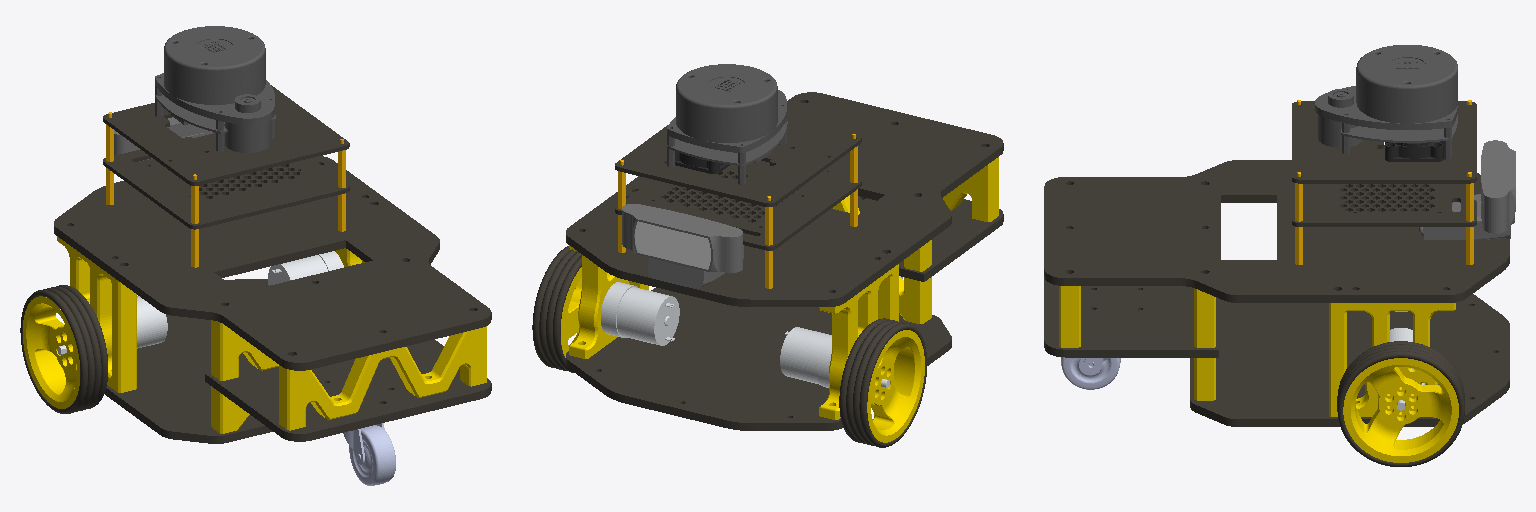
robot.urdf — pinna_bot:
<?xml version="1.0" encoding="utf-8"?>
<!-- =================================================================================== -->
<!-- |    This document was autogenerated by xacro from Pinna_bot.xacro                | -->
<!-- |    EDITING THIS FILE BY HAND IS NOT RECOMMENDED                                 | -->
<!-- =================================================================================== -->
<robot name="pinna_bot">
  <gazebo>
    <plugin filename="libgazebo_ros_control.so" name="gazebo_ros_control">
      <robotNamespace>/pinna_bot</robotNamespace>
      <robotSimType>gazebo_ros_control/DefaultRobotHWSim</robotSimType>
      <legacyModeNS>true</legacyModeNS>
    </plugin>
  </gazebo>
  <gazebo>
    <plugin filename="libgazebo_ros_diff_drive.so" name="differential_drive_controller">
      <legacyMode>false</legacyMode>
      <alwaysOn>true</alwaysOn>
      <updateRate>10</updateRate>
      <leftJoint>joint_wheel_left</leftJoint>
      <rightJoint>joint_wheel_right</rightJoint>
      <wheelSeparation>0.21</wheelSeparation>
      <wheelDiameter>0.115</wheelDiameter>
      <torque>0.018</torque>
      <commandTopic>cmd_vel</commandTopic>
      <odometryTopic>odom</odometryTopic>
      <odometryFrame>odom</odometryFrame>
      <robotBaseFrame>link_chasis</robotBaseFrame>
      <!-- base_footprint -->
    </plugin>
  </gazebo>
  <!--Physics constants-->
  <gazebo reference="link_wheel_right">
    <mu1>0.6</mu1>
    <mu2>0.6</mu2>
    <kp>500000.0</kp>
    <kd>10.0</kd>
    <minDepth>0.001</minDepth>
    <maxVel>0.1</maxVel>
    <fdir1>1 0 0</fdir1>
  </gazebo>
  <gazebo reference="link_wheel_left">
    <mu1>0.6</mu1>
    <mu2>0.6</mu2>
    <kp>500000.0</kp>
    <kd>10.0</kd>
    <minDepth>0.001</minDepth>
    <maxVel>0.1</maxVel>
    <fdir1>1 0 0</fdir1>
  </gazebo>
  <gazebo reference="link_caster_wheel">
    <mu1>0.3</mu1>
    <mu2>0.3</mu2>
    <kp>1000000.0</kp>
    <kd>100.0</kd>
    <minDepth>0.001</minDepth>
    <maxVel>1.0</maxVel>
  </gazebo>
  <!--Plugin IMU-->
  <gazebo reference="imu_link">
    <gravity>true</gravity>
    <sensor name="imu_sensor" type="imu">
      <always_on>true</always_on>
      <update_rate>100</update_rate>
      <visualize>true</visualize>
      <topic>imu_topic</topic>
      <plugin filename="libgazebo_ros_imu_sensor.so" name="imu_plugin">
        <topicName>pinna_bot/imu</topicName>
        <bodyName>imu_link</bodyName>
        <updateRateHZ>10.0</updateRateHZ>
        <gaussianNoise>0.0</gaussianNoise>
        <xyzOffset>0 0 0</xyzOffset>
        <rpyOffset>0 0 0</rpyOffset>
        <frameName>imu_link</frameName>
        <initialOrientationAsReference>true</initialOrientationAsReference>
        <!--false-->
      </plugin>
      <pose>0 0 0 0 0 0</pose>
    </sensor>
  </gazebo>
  <!--Plugin Camara-->
  <gazebo reference="camera_link">
    <sensor name="camara" type="camera">
      <update_rate>20.0</update_rate>
      <camera name="head">
        <horizontal_fov>1.3962634</horizontal_fov>
        <image>
          <width>1920</width>
          <height>1080</height>
          <format>R8G8B8</format>
        </image>
        <clip>
          <near>0.02</near>
          <far>300</far>
        </clip>
      </camera>
      <plugin filename="libgazebo_ros_camera.so" name="camera_controller">
        <alwaysOn>true</alwaysOn>
        <updateRate>0.0</updateRate>
        <cameraName>pinna_bot/camara</cameraName>
        <imageTopicName>image_raw</imageTopicName>
        <cameraInfoTopicName>camera_info</cameraInfoTopicName>
        <frameName>camera_link</frameName>
        <hackBaseline>0.07</hackBaseline>
        <distortionK1>0.0</distortionK1>
        <distortionK2>0.0</distortionK2>
        <distortionK3>0.0</distortionK3>
        <distortionT1>0.0</distortionT1>
        <distortionT2>0.0</distortionT2>
      </plugin>
    </sensor>
  </gazebo>
  <!--Plugin Lidar-->
  <gazebo reference="lidar_link">
    <sensor name="head_hokuyo_sensor" type="ray">
      <pose>0 0 0 0 0 0</pose>
      <visualize>false</visualize>
      <update_rate>20</update_rate>
      <ray>
        <scan>
          <horizontal>
            <samples>720</samples>
            <resolution>1</resolution>
            <min_angle>-3.14</min_angle>
            <max_angle>3.14</max_angle>
          </horizontal>
        </scan>
        <range>
          <min>0.10</min>
          <max>12.0</max>
          <resolution>0.01</resolution>
        </range>
        <noise>
          <type>gaussian</type>
          <mean>0.0</mean>
          <stddev>0.01</stddev>
        </noise>
      </ray>
      <plugin filename="libgazebo_ros_laser.so" name="gazebo_ros_head_hokuyo_controller">
        <topicName>pinna_bot/laser/scan</topicName>
        <frameName>lidar_link</frameName>
      </plugin>
    </sensor>
  </gazebo>
  <!--FRONT-->
  <gazebo reference="sonar_front_link">
    <sensor name="sonar" type="ray">
      <update_rate>10</update_rate>
      <visualize>false</visualize>
      <ray>
        <scan>
          <horizontal>
            <samples>5</samples>
            <resolution>1</resolution>
            <min_angle>-0.1</min_angle>
            <max_angle>0.1</max_angle>
          </horizontal>
          <vertical>
            <samples>5</samples>
            <resolution>1</resolution>
            <min_angle>-0.1</min_angle>
            <max_angle>0.1</max_angle>
          </vertical>
        </scan>
        <range>
          <min>0.03</min>
          <max>4.0</max>
          <resolution>0.01</resolution>
        </range>
      </ray>
      <plugin filename="libgazebo_ros_range.so" name="gazebo_ros_range">
        <gaussianNoise>0.005</gaussianNoise>
        <alwaysOn>true</alwaysOn>
        <updateRate>10</updateRate>
        <topicName>pinna_bot/sonar/1</topicName>
        <frameName>sonar_front_link</frameName>
        <fov>0.5</fov>
        <radiation>ultrasound</radiation>
      </plugin>
    </sensor>
  </gazebo>
  <!--LEFT-->
  <gazebo reference="sonar_left_link">
    <sensor name="sonar" type="ray">
      <update_rate>10</update_rate>
      <visualize>false</visualize>
      <ray>
        <scan>
          <horizontal>
            <samples>5</samples>
            <resolution>1</resolution>
            <min_angle>-0.1</min_angle>
            <max_angle>0.1</max_angle>
          </horizontal>
          <vertical>
            <samples>5</samples>
            <resolution>1</resolution>
            <min_angle>-0.1</min_angle>
            <max_angle>0.1</max_angle>
          </vertical>
        </scan>
        <range>
          <min>0.055</min>
          <max>4.0</max>
          <resolution>0.01</resolution>
        </range>
      </ray>
      <plugin filename="libgazebo_ros_range.so" name="gazebo_ros_range">
        <gaussianNoise>0.005</gaussianNoise>
        <alwaysOn>true</alwaysOn>
        <updateRate>10</updateRate>
        <topicName>pinna_bot/sonar/2</topicName>
        <frameName>sonar_left_link</frameName>
        <fov>0.5</fov>
        <radiation>ultrasound</radiation>
      </plugin>
    </sensor>
  </gazebo>
  <!--RIGHT-->
  <gazebo reference="sonar_right_link">
    <sensor name="sonar" type="ray">
      <update_rate>10</update_rate>
      <visualize>false</visualize>
      <ray>
        <scan>
          <horizontal>
            <samples>5</samples>
            <resolution>1</resolution>
            <min_angle>-0.1</min_angle>
            <max_angle>0.1</max_angle>
          </horizontal>
          <vertical>
            <samples>5</samples>
            <resolution>1</resolution>
            <min_angle>-0.1</min_angle>
            <max_angle>0.1</max_angle>
          </vertical>
        </scan>
        <range>
          <min>0.055</min>
          <max>4.0</max>
          <resolution>0.01</resolution>
        </range>
      </ray>
      <plugin filename="libgazebo_ros_range.so" name="gazebo_ros_range">
        <gaussianNoise>0.005</gaussianNoise>
        <alwaysOn>true</alwaysOn>
        <updateRate>10</updateRate>
        <topicName>pinna_bot/sonar/3</topicName>
        <frameName>sonar_right_link</frameName>
        <fov>0.5</fov>
        <radiation>ultrasound</radiation>
      </plugin>
    </sensor>
  </gazebo>
  <material name="black">
    <color rgba="0.0 0.0 0.0 1.0"/>
  </material>
  <material name="blue">
    <color rgba="0.0 0.0 0.8 1.0"/>
  </material>
  <material name="green">
    <color rgba="0.0 0.8 0.0 1.0"/>
  </material>
  <material name="grey">
    <color rgba="0.2 0.2 0.2 1.0"/>
  </material>
  <material name="orange">
    <color rgba="1.0 0.423529411765 0.0392156862745 1.0"/>
  </material>
  <material name="brown">
    <color rgba="0.870588235294 0.811764705882 0.764705882353 1.0"/>
  </material>
  <material name="red">
    <color rgba="0.8 0.0 0.0 1.0"/>
  </material>
  <material name="white">
    <color rgba="1.0 1.0 1.0 1.0"/>
  </material>
  <!--Links o partes Chasis-->
  <link name="link_chassis">
    <!-- pose and inertial -->
    <pose>0 0 0.1 0 0 0</pose>
    <inertial>
      <mass value="3.0"/>
      <origin rpy="0 0 0" xyz="0 0 0"/>
      <inertia ixx="0.0655" ixy="0" ixz="0" iyy="0.0517" iyz="0" izz="0.14"/>
    </inertial>
    <!--Chasis -->
    <collision name="collision_chassis">
      <origin rpy="0 0 0" xyz="0 0 0.085"/>
      <geometry>
        <box size="0.22 0.320 0.173"/>
      </geometry>
    </collision>
    <visual>
      <origin rpy="0 0 0" xyz="0 0.160 0"/>
      <geometry>
        <mesh filename="package://pinnabot_description/meshes/Chasis_pinna_bot.dae"/>
      </geometry>
    </visual>
  </link>
  <!--Links caster-->
  <link name="link_caster_wheel">
    <inertial>
      <mass value="0.15"/>
      <inertia ixx="0.001107" ixy="0" ixz="0" iyy="0.001107" iyz="0" izz="0.002152"/>
    </inertial>
    <collision>
      <origin rpy="0 1.57 0" xyz="0 0.00 0.0"/>
      <geometry>
        <cylinder length="0.019" radius="0.020"/>
      </geometry>
    </collision>
    <visual>
      <origin rpy="0 0 0" xyz="0 0.021 0.035"/>
      <geometry>
        <mesh filename="package://pinnabot_description/meshes/caster_wheel.dae"/>
      </geometry>
    </visual>
  </link>
  <link name="link_caster_axis_support">
    <inertial>
      <mass value="0.08"/>
      <inertia ixx="1e-6" ixy="0" ixz="0" iyy="1e-6" iyz="0" izz="1e-6"/>
    </inertial>
    <collision>
      <origin rpy="0 0 0" xyz="0 -0.003 -0.02"/>
      <geometry>
        <box size="0.025 0.040 0.035"/>
      </geometry>
    </collision>
    <visual>
      <origin rpy="0 0 0" xyz="0 0 0"/>
      <geometry>
        <mesh filename="package://pinnabot_description/meshes/caster_axis_support.dae"/>
      </geometry>
    </visual>
  </link>
  <link name="link_caster_base">
    <inertial>
      <mass value="0.05"/>
      <inertia ixx="1e-6" ixy="0" ixz="0" iyy="1e-6" iyz="0" izz="1e-6"/>
    </inertial>
    <collision>
      <origin rpy="0 0 0" xyz="0 0 -0.0015"/>
      <geometry>
        <box size="0.045 0.045 0.003"/>
      </geometry>
    </collision>
    <visual>
      <origin rpy="0 0 0" xyz="0 0 0"/>
      <geometry>
        <mesh filename="package://pinnabot_description/meshes/caster_base.dae"/>
      </geometry>
    </visual>
  </link>
  <!--Links Wheels-->
  <link name="link_wheel_right">
    <inertial>
      <mass value="1.0"/>
      <origin rpy="0 1.5707 0" xyz="0 0 0"/>
      <inertia ixx="0.01107" ixy="0" ixz="0" iyy="0.01107" iyz="0" izz="0.02152"/>
    </inertial>
    <collision name="link_wheel_right_collision">
      <origin rpy="0 1.5707 0" xyz="0 0 0"/>
      <geometry>
        <cylinder length="0.022" radius="0.043"/>
      </geometry>
    </collision>
    <visual name="link_wheel_right_visual">
      <origin rpy="0 1.5707 0" xyz="0 0 0"/>
      <geometry>
        <mesh filename="package://pinnabot_description/meshes/Wheel_pinna_bot.dae"/>
      </geometry>
    </visual>
  </link>
  <link name="link_wheel_left">
    <inertial>
      <mass value="1.0"/>
      <origin rpy="0 -1.5707 0" xyz="0 0 0"/>
      <inertia ixx="0.01107" ixy="0" ixz="0" iyy="0.01107" iyz="0" izz="0.02152"/>
    </inertial>
    <collision name="link_wheel_left_collision">
      <origin rpy="0 -1.5707 0" xyz="0 0 0"/>
      <geometry>
        <cylinder length="0.022" radius="0.043"/>
      </geometry>
    </collision>
    <visual name="link_wheel_left_visual">
      <origin rpy="0 -1.5707 0" xyz="0 0 0"/>
      <geometry>
        <mesh filename="package://pinnabot_description/meshes/Wheel_pinna_bot.dae"/>
      </geometry>
    </visual>
  </link>
  <!-- imu -->
  <link name="imu_link">
    </link>
  <!-- Camera -->
  <link name="camera_link">
    <collision>
      <origin rpy="1.57 0 -1.57" xyz="0 0 0"/>
      <geometry>
        <box size="0.090 0.040  0.020"/>
      </geometry>
    </collision>
    <inertial>
      <mass value="0.160"/>
      <origin rpy="0 0 0" xyz="0 0 0"/>
      <inertia ixx="1e-6" ixy="0" ixz="0" iyy="1e-6" iyz="0" izz="1e-6"/>
    </inertial>
    <visual>
      <origin rpy="1.57 0 -1.57" xyz="0.1025 0.005 0"/>
      <geometry>
        <mesh filename="package://pinnabot_description/meshes/Camera_Logitech_C920Arm.dae"/>
      </geometry>
    </visual>
  </link>
  <!-- Module-Jetson -->
  <link name="module_jetson_link">
    <inertial>
      <mass value="0.4"/>
      <inertia ixx="0.0" ixy="0.0" ixz="0.0" iyy="0.0" iyz="0.0" izz="0.0"/>
    </inertial>
    <visual>
      <origin rpy="0.0 0.0 0.0" xyz="0.0 0.0 0.0"/>
      <geometry>
        <mesh filename="package://pinnabot_description/meshes/module_jetson.dae"/>
      </geometry>
    </visual>
  </link>
  <!-- Lidar -->
  <link name="lidar_link">
    <collision>
      <origin rpy="0 0 0" xyz="0 0 0"/>
      <geometry>
        <cylinder length="0.07" radius="0.05"/>
      </geometry>
    </collision>
    <visual>
      <origin rpy="0 0 -3.14" xyz="0 0 0"/>
      <geometry>
        <mesh filename="package://pinnabot_description/meshes/RPLidar.dae"/>
      </geometry>
    </visual>
    <inertial>
      <mass value="0.170"/>
      <origin rpy="0 0 0" xyz="0 0 0"/>
      <inertia ixx="1e-6" ixy="0" ixz="0" iyy="1e-6" iyz="0" izz="1e-6"/>
    </inertial>
  </link>
  <!-- Sonars o Ultrasonidos -->
  <link name="sonar_front_link">
    <inertial>
      <mass value="0.001"/>
      <origin rpy="0 0 0" xyz="0 0 0"/>
      <inertia ixx="0.000000017" ixy="0" ixz="0" iyy="0.000000017" iyz="0" izz="0.000000017"/>
    </inertial>
    <visual>
      <origin rpy="0 0 -1.5707" xyz="0 0 0"/>
      <geometry>
        <mesh filename="package://pinnabot_description/meshes/Ultrasonido.dae"/>
      </geometry>
    </visual>
  </link>
  <link name="sonar_left_link">
    <inertial>
      <mass value="0.001"/>
      <origin rpy="0 0 0" xyz="0 0 0"/>
      <inertia ixx="0.000000017" ixy="0" ixz="0" iyy="0.000000017" iyz="0" izz="0.000000017"/>
    </inertial>
    <visual>
      <origin rpy="0 0 -1.5707" xyz="0 0 0"/>
      <geometry>
        <mesh filename="package://pinnabot_description/meshes/Ultrasonido.dae"/>
      </geometry>
    </visual>
  </link>
  <link name="sonar_right_link">
    <inertial>
      <mass value="0.001"/>
      <origin rpy="0 0 0" xyz="0 0 0"/>
      <inertia ixx="0.000000017" ixy="0" ixz="0" iyy="0.000000017" iyz="0" izz="0.000000017"/>
    </inertial>
    <visual>
      <origin rpy="0 0 -1.5707" xyz="0 0 0"/>
      <geometry>
        <mesh filename="package://pinnabot_description/meshes/Ultrasonido.dae"/>
      </geometry>
    </visual>
  </link>
  <!--Joints o uniones-->
  <joint name="joint_caster" type="fixed">
    <origin rpy="0 0 0" xyz="0 -0.1105 0.03"/>
    <parent link="link_chassis"/>
    <child link="link_caster_base"/>
  </joint>
  <joint name="joint_caster1" type="continuous">
    <origin rpy="0 0 0" xyz="0 -0.018 -0.03"/>
    <parent link="link_caster_axis_support"/>
    <child link="link_caster_wheel"/>
    <axis rpy="0 0 0" xyz="1 0 0"/>
    <limit effort="10000" velocity="1000"/>
    <joint_properties damping="0.80" friction="1.0"/>
  </joint>
  <joint name="joint_caster2" type="continuous">
    <origin rpy="0 0 0" xyz="0 0 0"/>
    <parent link="link_caster_base"/>
    <child link="link_caster_axis_support"/>
    <axis rpy="0 0 0" xyz="0 0 1"/>
    <limit effort="10000" velocity="1000"/>
    <joint_properties damping="0.80" friction="1.0"/>
  </joint>
  <joint name="joint_wheel_right" type="continuous">
    <origin rpy="0 0 0" xyz="0.122 0.085 0.023"/>
    <child link="link_wheel_right"/>
    <parent link="link_chassis"/>
    <axis rpy="0 0 0" xyz="-1 0 0"/>
    <limit effort="10000" velocity="1000"/>
    <joint_properties damping="0.80" friction="1.0"/>
  </joint>
  <joint name="joint_wheel_left" type="continuous">
    <origin rpy="0 0 0" xyz="-0.122 0.085 0.023"/>
    <child link="link_wheel_left"/>
    <parent link="link_chassis"/>
    <axis rpy="0 0 0" xyz="-1 0 0"/>
    <limit effort="10000" velocity="1000"/>
    <joint_properties damping="0.80" friction="1.0"/>
  </joint>
  <joint name="joint_imu" type="fixed">
    <origin rpy="0 0 0" xyz="0 0.085 0.02"/>
    <child link="imu_link"/>
    <parent link="link_chassis"/>
  </joint>
  <joint name="joint_camera" type="fixed">
    <origin rpy="0 0 1.57" xyz="0 0.155 0.130"/>
    <parent link="link_chassis"/>
    <child link="camera_link"/>
  </joint>
  <joint name="joint_module_jetson" type="fixed">
    <origin rpy="0.0 0.0 0.0" xyz="0.0 0.0735 0.13"/>
    <parent link="link_chassis"/>
    <child link="module_jetson_link"/>
  </joint>
  <joint name="joint_lidar" type="fixed">
    <origin rpy="0 0 1.5707" xyz="0 0.075 0.190"/>
    <parent link="link_chassis"/>
    <child link="lidar_link"/>
  </joint>
  <joint name="joint_sonar_front" type="fixed">
    <origin rpy="0 0 1.5707" xyz="0 0.158 0.051"/>
    <parent link="link_chassis"/>
    <child link="sonar_front_link"/>
  </joint>
  <joint name="joint_sonar_left" type="fixed">
    <origin rpy="0 0 2.1" xyz="-0.08 0.1405 0.051"/>
    <parent link="link_chassis"/>
    <child link="sonar_left_link"/>
  </joint>
  <joint name="joint_sonar_right" type="fixed">
    <origin rpy="0 0 1.04" xyz="0.08 0.1405 0.051"/>
    <parent link="link_chassis"/>
    <child link="sonar_right_link"/>
  </joint>
  <!--Transmission -->
  <transmission name="trans1">
    <type>transmission_interface/SimpleTransmission</type>
    <joint name="joint_wheel_right">
      <hardwareInterface>hardware_interface/VelocityJointInterface</hardwareInterface>
    </joint>
    <actuator name="motor1">
      <!--<hardwareInterface>hardware_interface/VelocityJointInterface</hardwareInterface>-->
      <mechanicalReduction>1</mechanicalReduction>
    </actuator>
  </transmission>
  <transmission name="trans2">
    <type>transmission_interface/SimpleTransmission</type>
    <joint name="joint_wheel_left">
      <hardwareInterface>hardware_interface/VelocityJointInterface</hardwareInterface>
    </joint>
    <actuator name="motor2">
      <!--<hardwareInterface>hardware_interface/VelocityJointInterface</hardwareInterface>-->
      <mechanicalReduction>1</mechanicalReduction>
    </actuator>
  </transmission>
</robot>

--- Render facts (derived) ---
3 views of the same robot in one strip: view 1: azimuth 30°, elevation 25°; view 2: azimuth 150°, elevation 25°; view 3: azimuth 270°, elevation 25° (orthographic).
Model pinna_bot with 13 links and 12 joints (4 continuous, 8 fixed), rooted at link_chassis, posed all joints at 0.
Links seen in each view (by area): view 1: link_chassis, module_jetson_link, lidar_link, link_wheel_left, link_caster_wheel, camera_link; view 2: link_chassis, module_jetson_link, lidar_link, link_wheel_left, camera_link, link_wheel_right; view 3: link_chassis, module_jetson_link, lidar_link, link_wheel_right, camera_link, link_caster_wheel.
Link boxes in pixels (box(x1,y1,x2,y2)): link_chassis: box(54, 156, 491, 443); module_jetson_link: box(103, 85, 349, 267); lidar_link: box(155, 26, 275, 152); link_wheel_left: box(20, 285, 107, 413); link_caster_wheel: box(349, 425, 395, 485); camera_link: box(114, 117, 212, 161); link_chassis: box(566, 92, 1003, 430); module_jetson_link: box(615, 118, 861, 288); lidar_link: box(667, 64, 787, 184); link_wheel_left: box(839, 318, 926, 447); camera_link: box(622, 204, 743, 288); link_wheel_right: box(532, 246, 581, 372); link_chassis: box(1044, 160, 1509, 426); module_jetson_link: box(1292, 100, 1476, 264); lidar_link: box(1315, 45, 1457, 159); link_wheel_right: box(1337, 341, 1464, 466); camera_link: box(1419, 140, 1515, 240); link_caster_wheel: box(1061, 357, 1120, 389).
Size in the robot's own frame: 0.2656 by 0.3235 by 0.2439 metres.
Meshes: 9 distinct files referenced, 9 mesh visuals loaded (8 Collada DAE); not drawn: 3 (reference not matched to a file when rendering).
